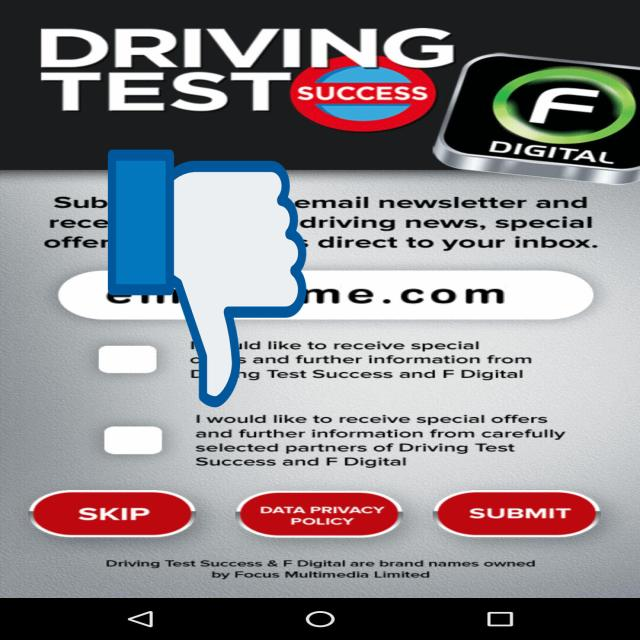obstruction: (108, 144, 306, 413)
